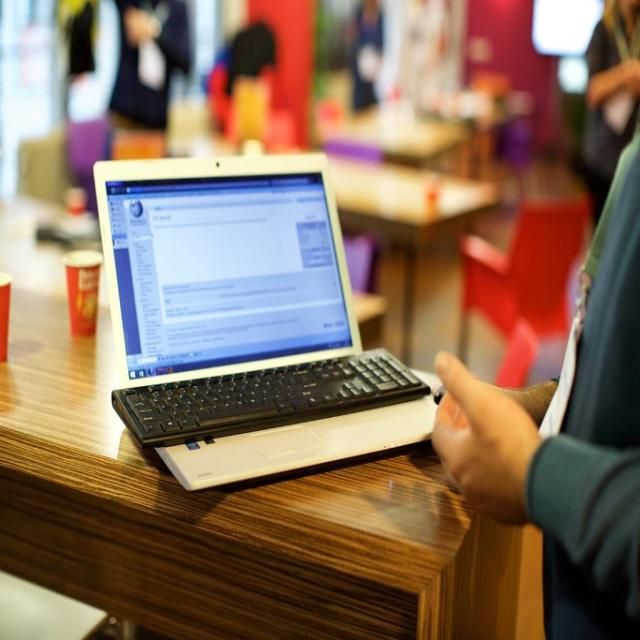keyboard: (117, 350, 430, 448)
laptop: (88, 155, 437, 495)
